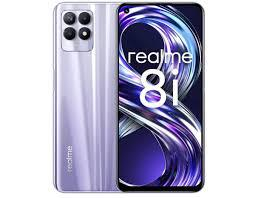Smartphone: (119, 3, 202, 190), (58, 2, 127, 197)
